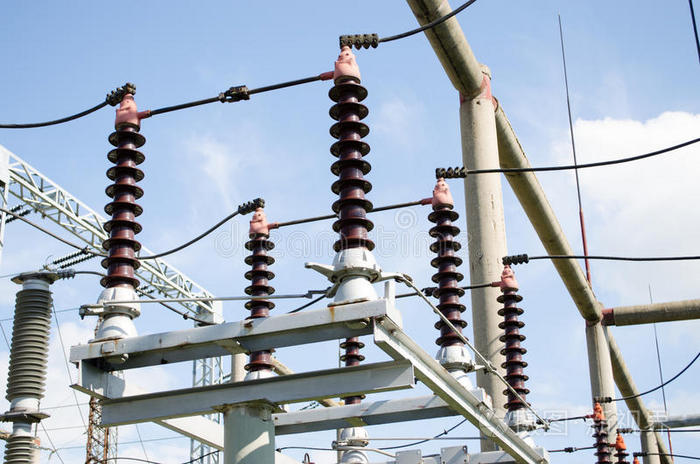insulator: (328, 84, 375, 248), (103, 130, 149, 287), (428, 210, 467, 348), (497, 290, 534, 409), (242, 238, 281, 310), (591, 421, 611, 464)
